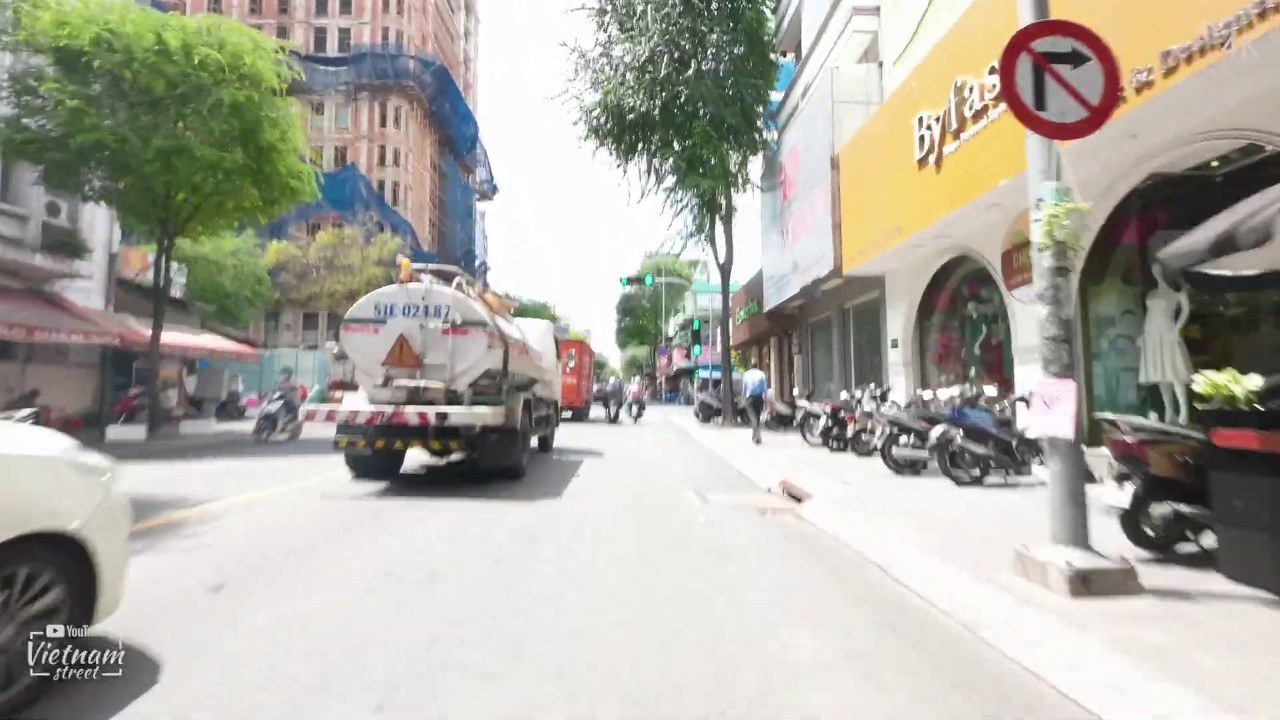cam_re_phai: (996, 14, 1125, 143)
